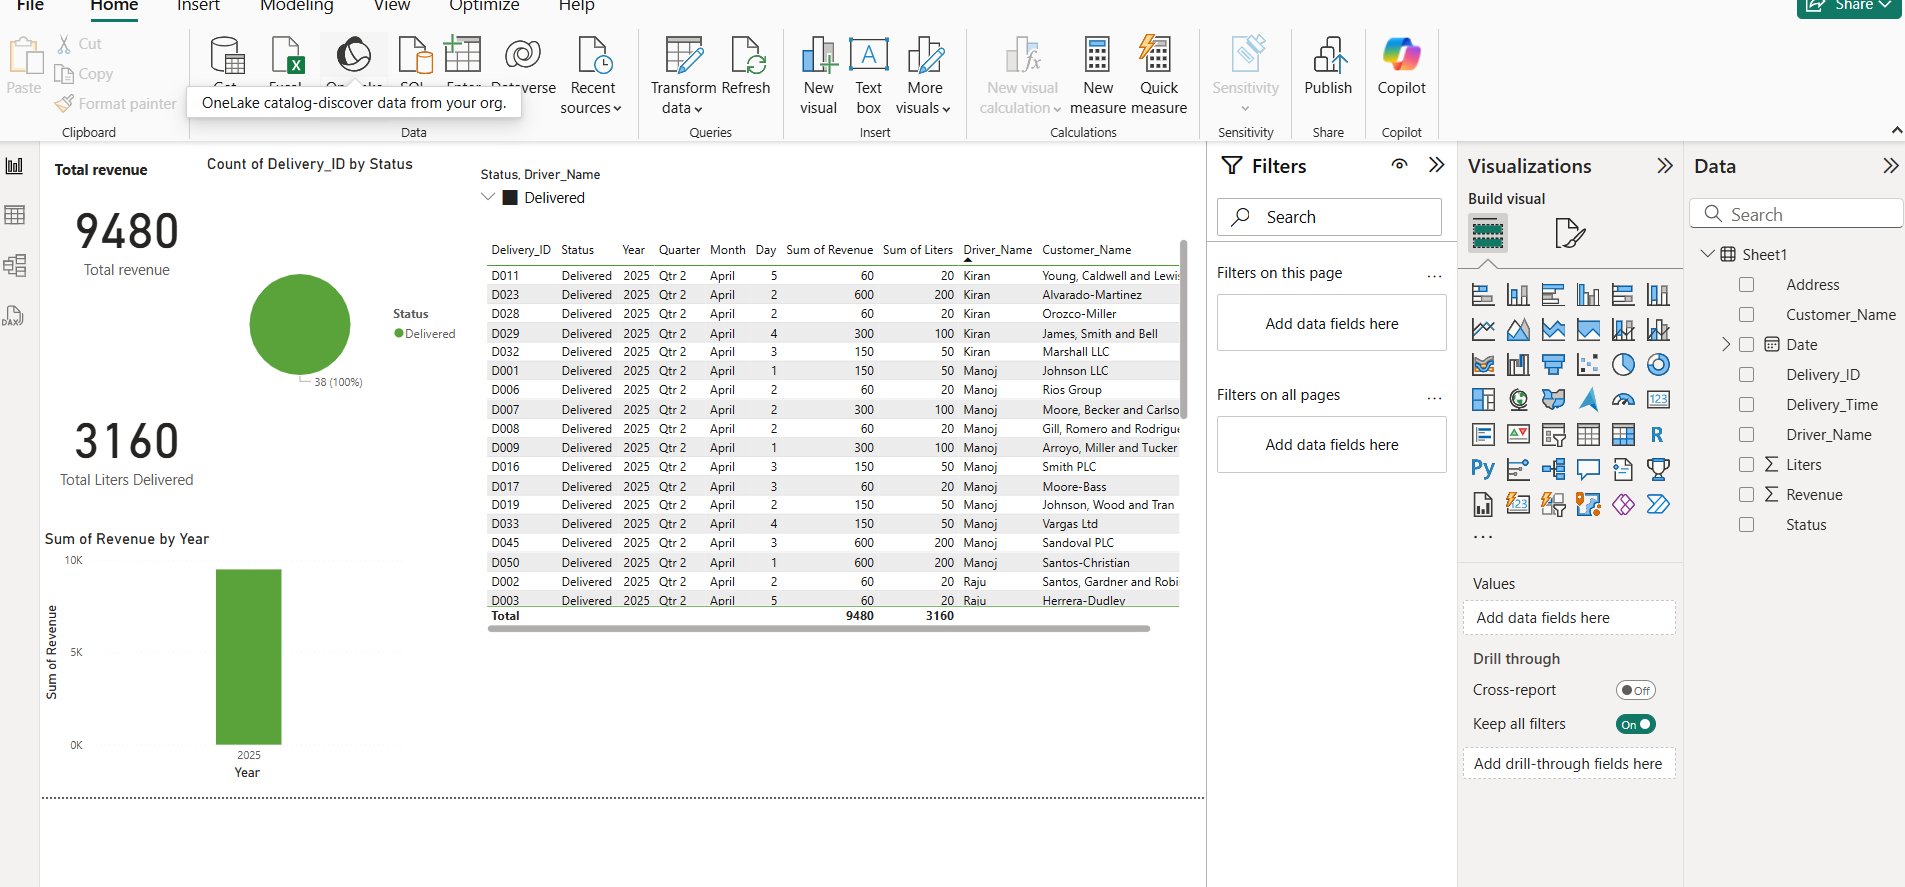

The page's visual inventory and layout, read from the dashboard file:
{"tool":"powerbi","page":{"name":"Page 1","canvas":[1280,720],"ordinal":0},"visuals":[{"type":"card","fields":{"Values":["Sheet1.Revenue"]},"box":[0,45.3,190.7,113.9],"z":0},{"type":"textbox","box":[11,15.1,124.9,41.2],"z":1000},{"type":"card","fields":{"Values":["Sheet1.Liters"]},"box":[0,274.4,190.7,118],"z":2000},{"type":"columnChart","fields":{"Category":["Sheet1.Date.Variation.Date Hierarchy.Year","Sheet1.Date.Variation.Date Hierarchy.Quarter","Sheet1.Date.Variation.Date Hierarchy.Month","Sheet1.Date.Variation.Date Hierarchy.Day"],"Y":["Sheet1.Revenue"]},"box":[0,426.8,403.4,279.9],"z":3000},{"type":"pieChart","fields":{"Category":["Sheet1.Status"],"Y":["Sheet1.Delivery_ID"]},"box":[178.4,15.1,292.3,354],"z":4000},{"type":"tableEx","fields":{"Values":["Sheet1.Delivery_ID","Sheet1.Status","Sheet1.Date.Variation.Date Hierarchy.Year","Sheet1.Date.Variation.Date Hierarchy.Quarter","Sheet1.Date.Variation.Date Hierarchy.Month","Sheet1.Date.Variation.Date Hierarchy.Day","Sheet1.Revenue","Sheet1.Liters","Sheet1.Driver_Name","Sheet1.Customer_Name"]},"box":[484.4,102.9,780.8,441.9],"z":4001},{"type":"slicer","fields":{"Values":["Sheet1.Status","Sheet1.Driver_Name"]},"box":[470.7,23.3,256.6,79.6],"z":4002}]}

Visuals, with their boxes on the page's 1280x720 design canvas (x1, y1, x2, y2). These are canvas units, not pixel positions in the 1905x887 screenshot, which may show the page scaled, cropped or inside an application window:
card - Sheet1.Revenue: pyautogui.locateOnScreen(0, 45, 191, 159)
textbox: pyautogui.locateOnScreen(11, 15, 136, 56)
card - Sheet1.Liters: pyautogui.locateOnScreen(0, 274, 191, 392)
columnChart - Sheet1.Date.Variation.Date Hierarchy.Year x Sheet1.Date.Variation.Date Hierarchy.Quarter: pyautogui.locateOnScreen(0, 427, 403, 707)
pieChart - Sheet1.Status x Sheet1.Delivery_ID: pyautogui.locateOnScreen(178, 15, 471, 369)
tableEx - Sheet1.Delivery_ID x Sheet1.Status: pyautogui.locateOnScreen(484, 103, 1265, 545)
slicer - Sheet1.Status x Sheet1.Driver_Name: pyautogui.locateOnScreen(471, 23, 727, 103)
